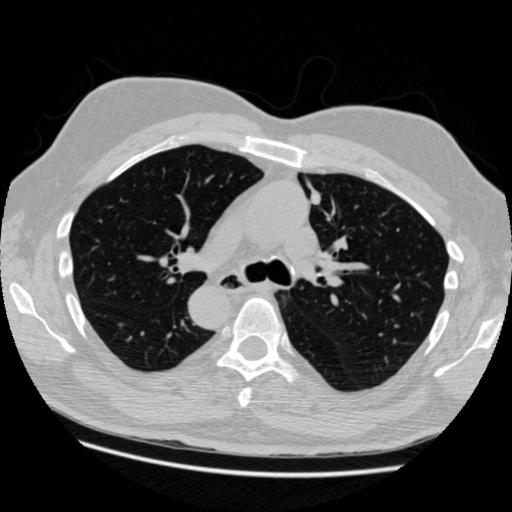nodule: (309, 187, 329, 207)
